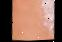plaque psoriasis: (33, 0, 57, 41)
